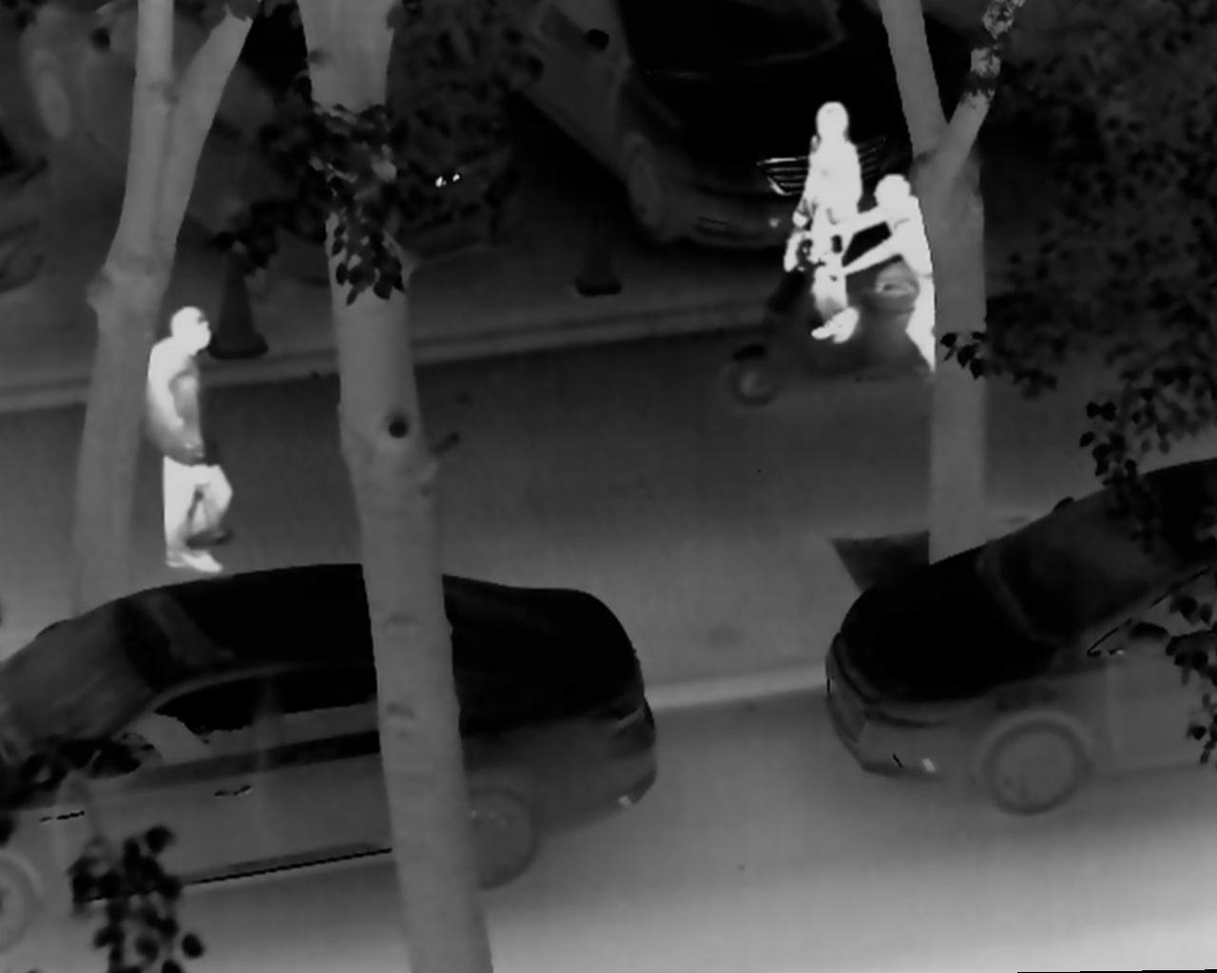person: (802, 175, 947, 386), (136, 304, 242, 581), (767, 99, 863, 348)
